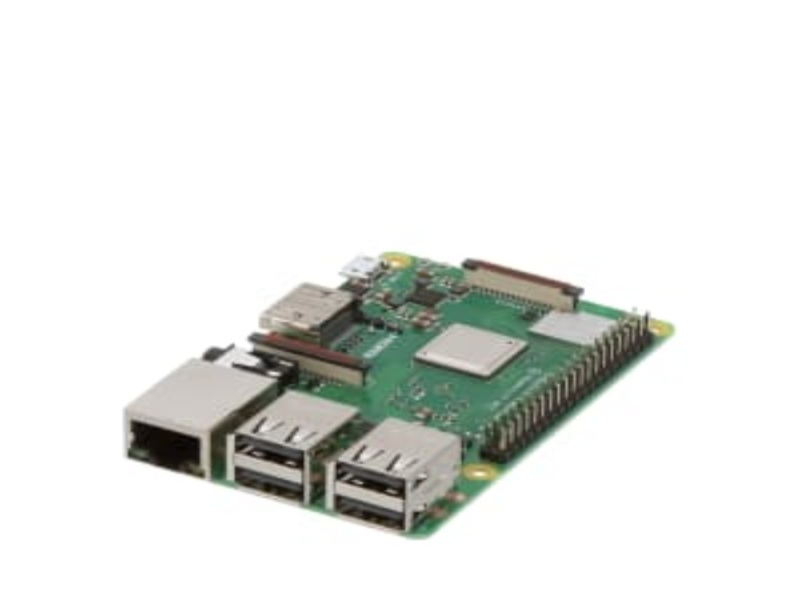raspberrypi: (123, 231, 672, 550)
